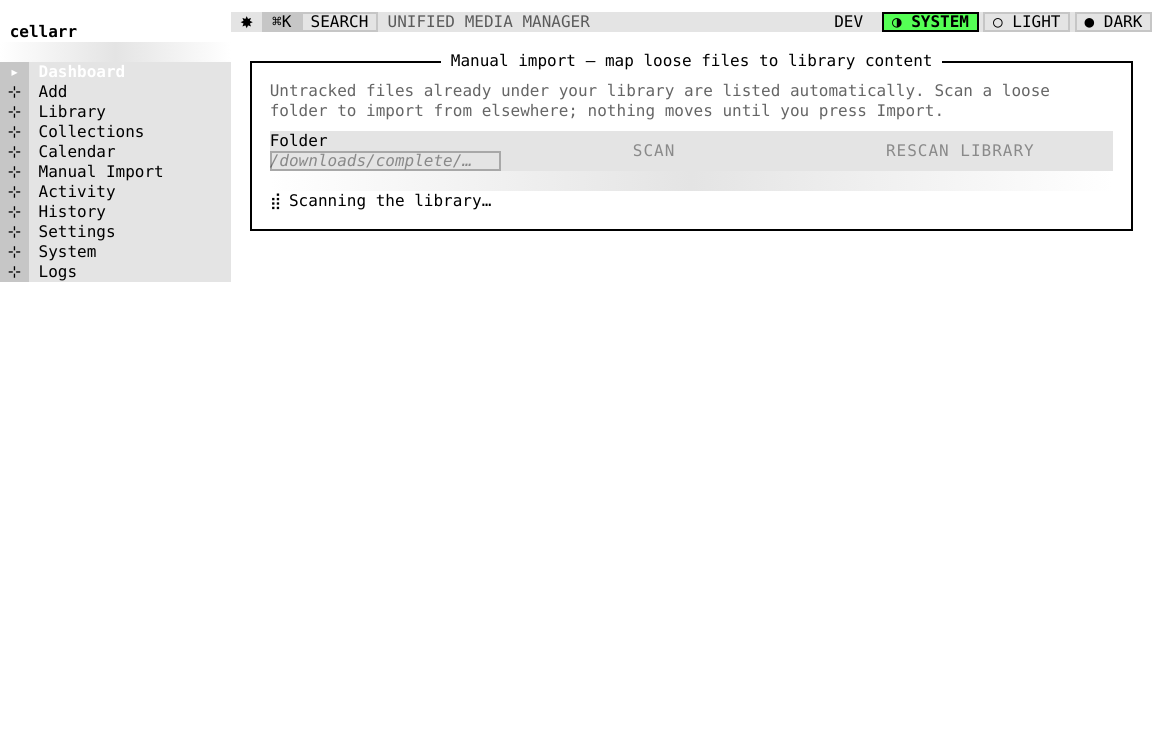
Test: Manual Import screen › commits the included files and shows a success toast
Type "/downloads" into the field named "import-folder" at (385, 161), box [270, 151, 501, 171]
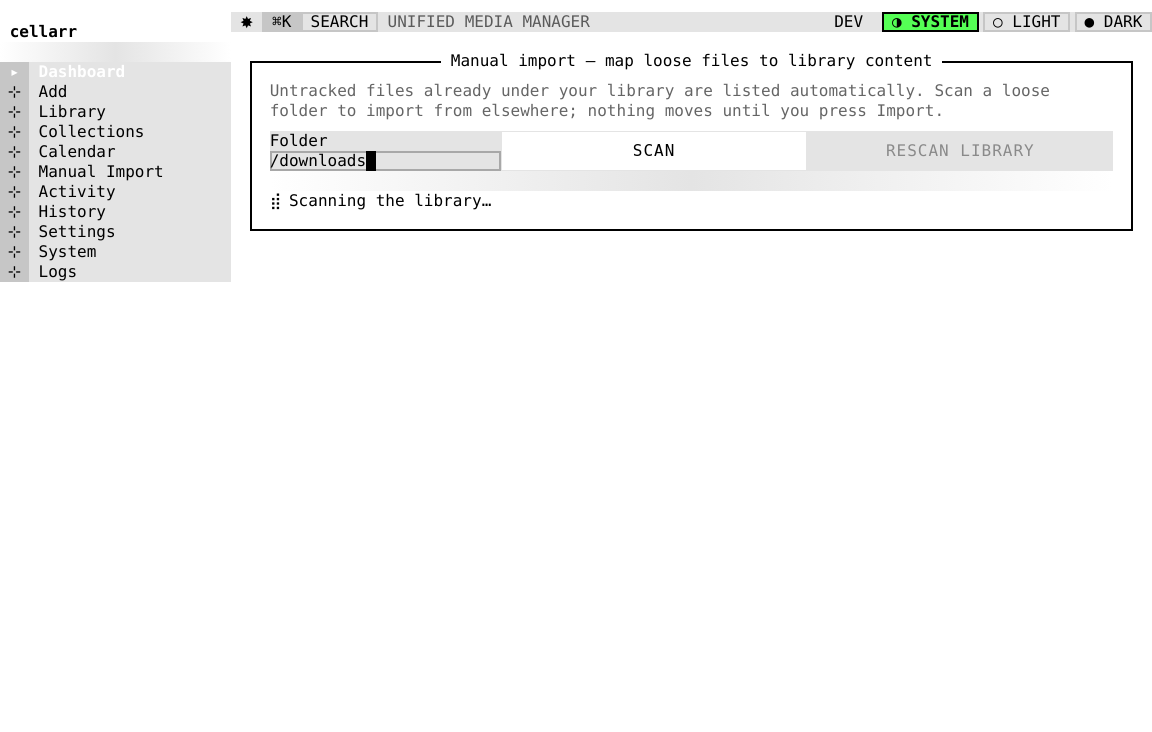
Click the button "Scan" at (654, 151), box [501, 131, 807, 171]
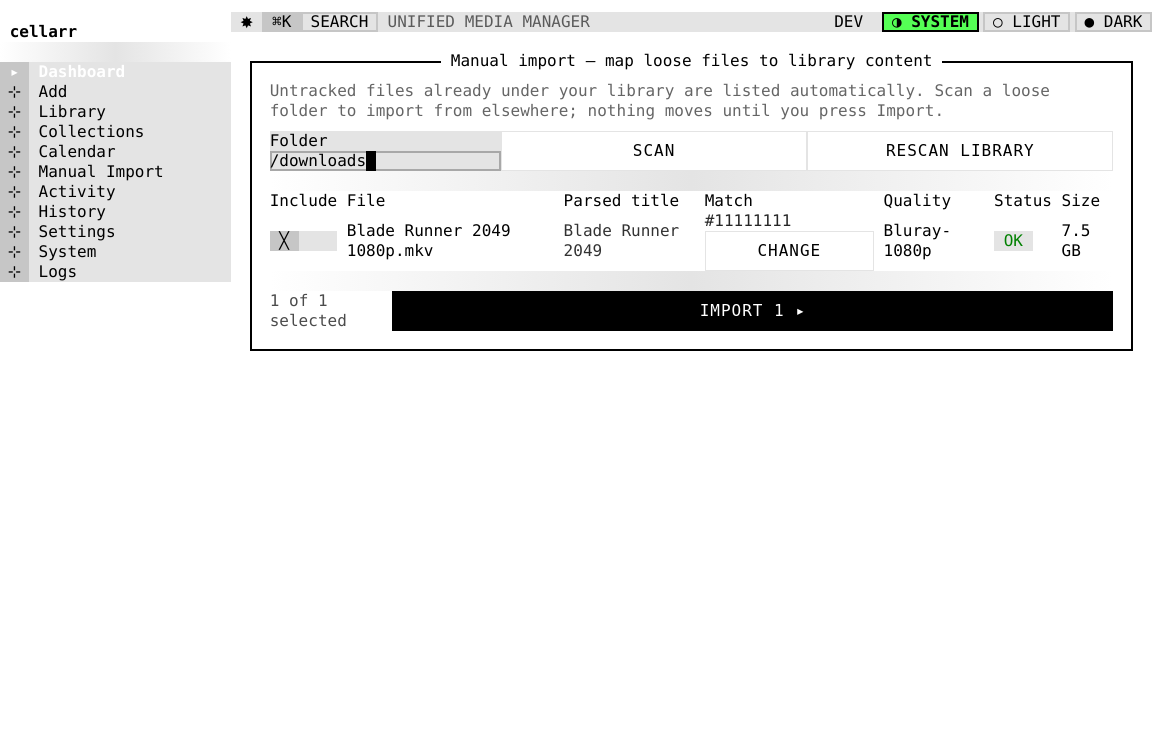
Expected: the button "Import 1 ▸" is shown
Click the button "Import 1 ▸" at (753, 311), box [392, 291, 1114, 331]
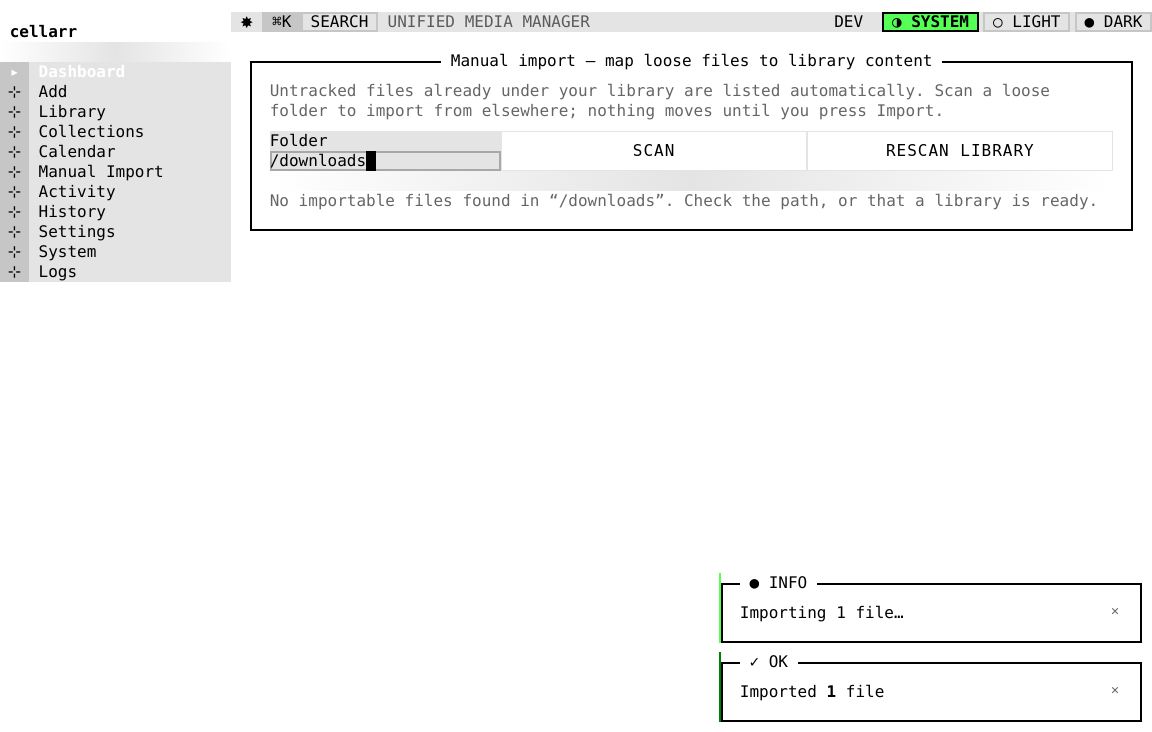
Expected: the text "Imported 1 file" is shown, [740, 682, 884, 701]
